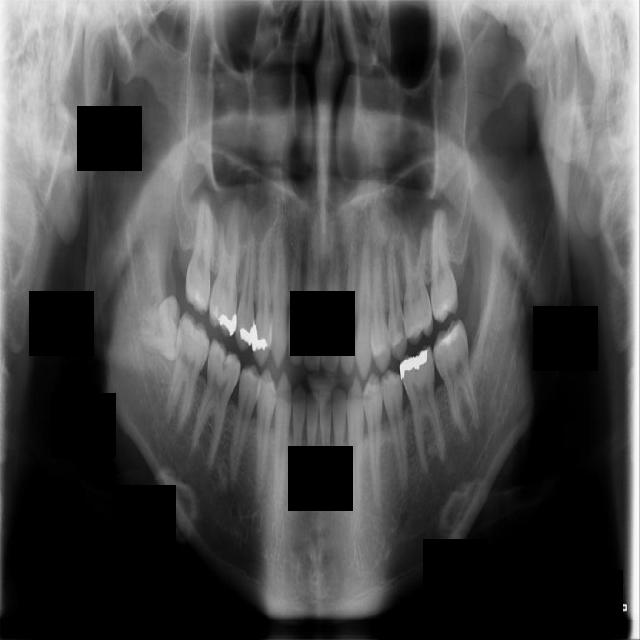52: (431, 315, 470, 381), (398, 343, 439, 400), (246, 305, 281, 367), (208, 280, 240, 337), (234, 300, 257, 352), (301, 316, 323, 369), (287, 313, 305, 367)
73: (614, 580, 620, 592)
BioHorizons Implant: (427, 206, 460, 325)
Blue Sky Bio Implant: (429, 314, 483, 445)
Caries: (183, 194, 216, 316)
Implant: (161, 311, 215, 439)
Keystone Dental Implant: (140, 294, 181, 360)
